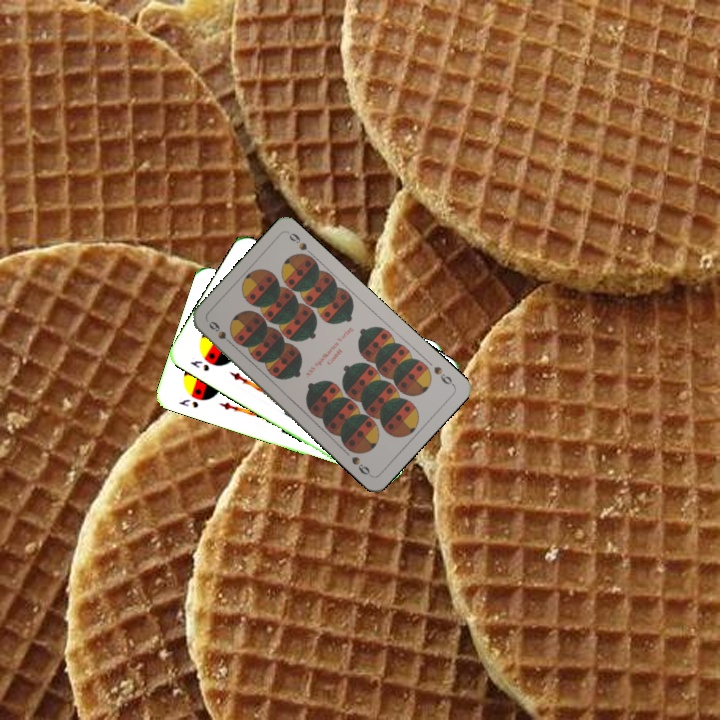S9: (205, 317, 237, 349), (430, 362, 457, 388)
SK: (186, 356, 212, 374), (175, 395, 201, 411)
